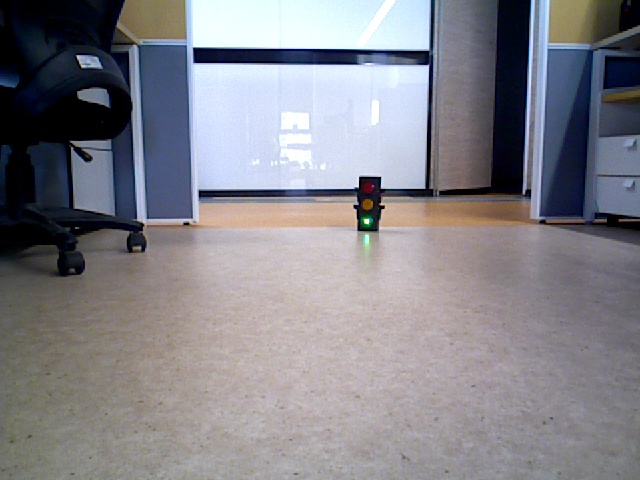green: (358, 176, 378, 225)
